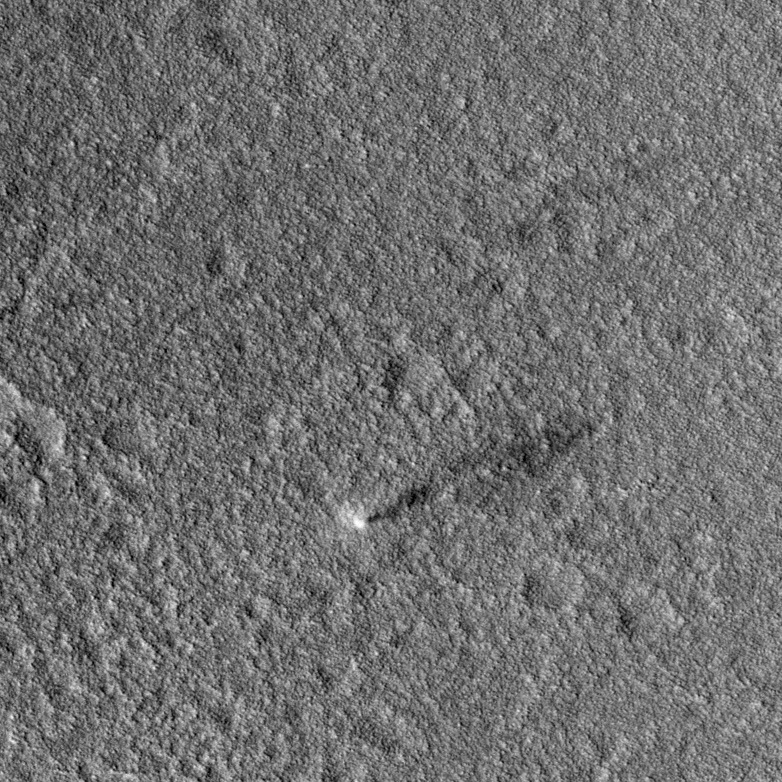dust_devil: (334, 404, 597, 535)
